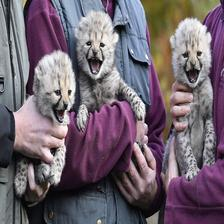Cheetah: (74, 8, 146, 175), (14, 49, 75, 198), (170, 18, 216, 181)
